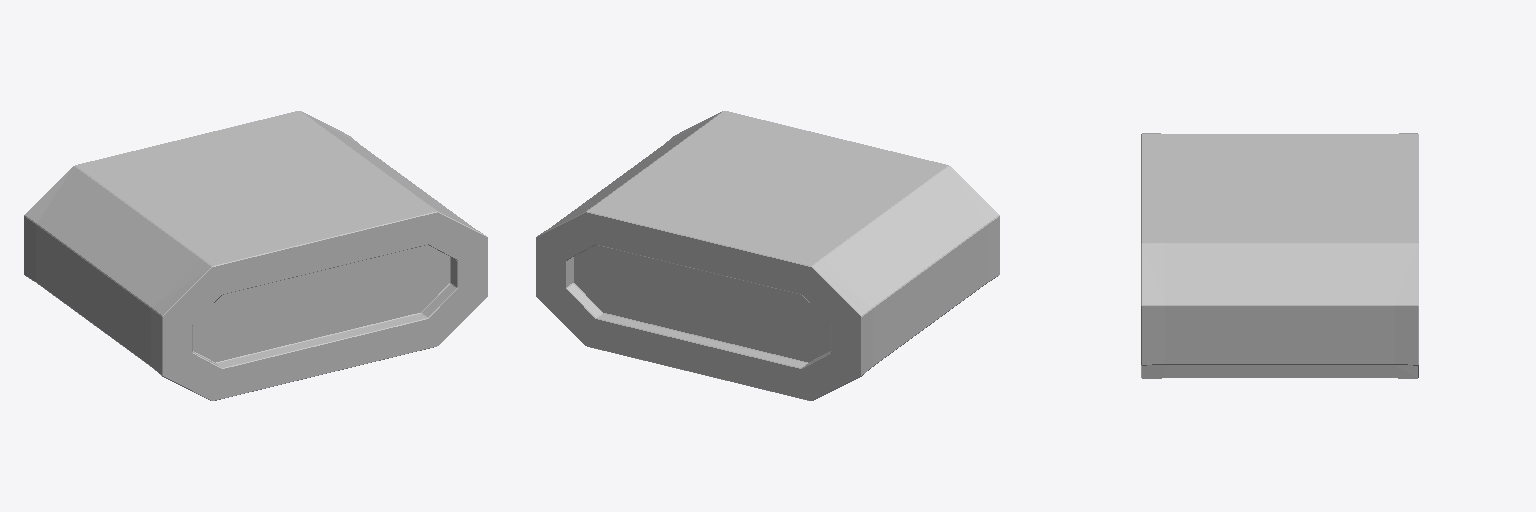
Rendered from UnderwaterBase.obj.
3 renders of one model, left to right at view 1: azimuth 30°, elevation 25°; view 2: azimuth 150°, elevation 25°; view 3: azimuth 270°, elevation 25°, orthographic.
Parts seen in each view (by area): view 1: UnderwaterBase_Cube.001; view 2: UnderwaterBase_Cube.001; view 3: UnderwaterBase_Cube.001.
Boxes of the visible parts, x1,y1,x2,y2 form: UnderwaterBase_Cube.001: [24, 111, 487, 400]; UnderwaterBase_Cube.001: [536, 111, 999, 400]; UnderwaterBase_Cube.001: [1141, 133, 1418, 378].
Bounding box in the file's own units: 49.26 × 19.54 × 36.25.